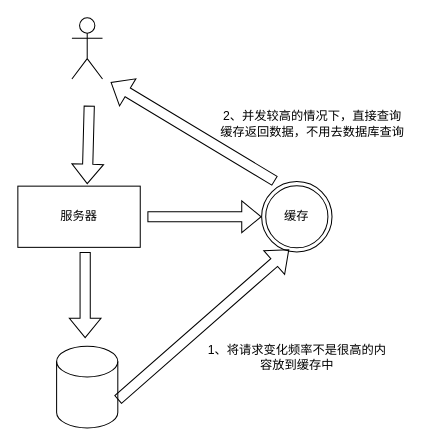
Some shapes in this 424 by 446 pixel diagram are drawn without their labels. The shapes that lost their labels are listed below. From the top down, each one's centre as x and y in pixels, then its label:
At point (87, 48): "用户".
At point (87, 386): "数据库".
